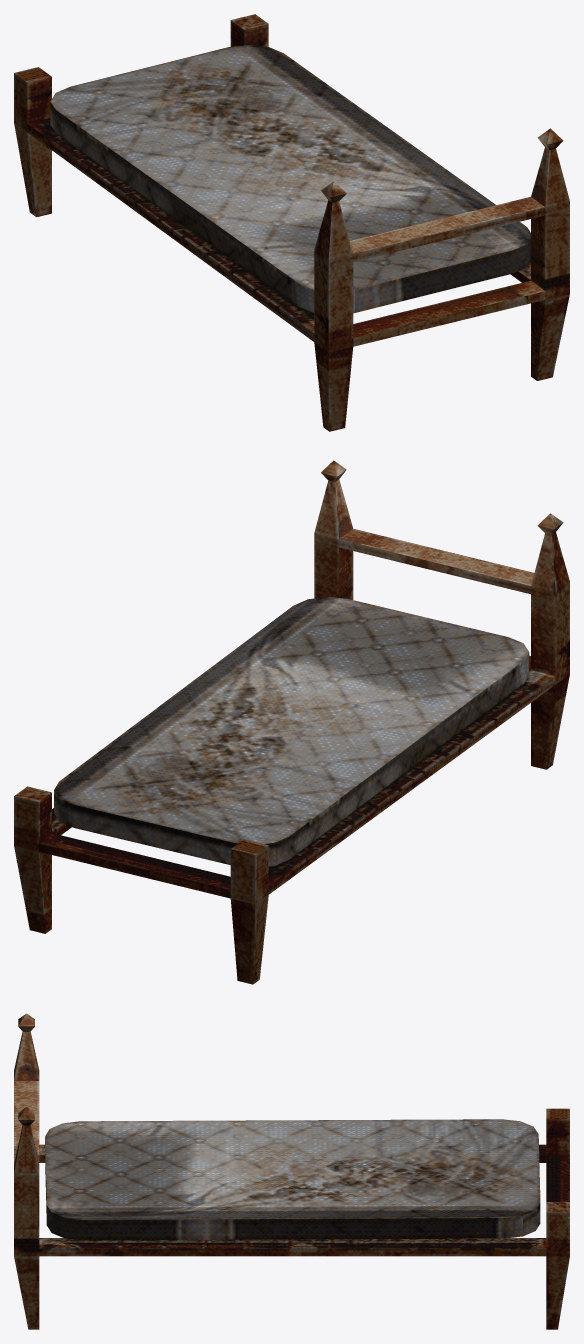
The model's file is bed_col.fbx.
3 renders of one model, top to bottom at view 1: azimuth 30°, elevation 25°; view 2: azimuth 150°, elevation 25°; view 3: azimuth 270°, elevation 25°, orthographic. The views are drawn at different scales.
Visible parts, largest first — view 1: matress_low, bedbody_low; view 2: matress_low, bedbody_low; view 3: matress_low, bedbody_low.
Boxes of the visible parts, x1,y1,x2,y2 form: matress_low: (50,44,530,313); bedbody_low: (14,14,569,431); matress_low: (54,597,529,866); bedbody_low: (14,460,569,984); matress_low: (45,1119,540,1240); bedbody_low: (14,1013,569,1329).
Bounding box in the file's own units: 134 × 133 × 302.
